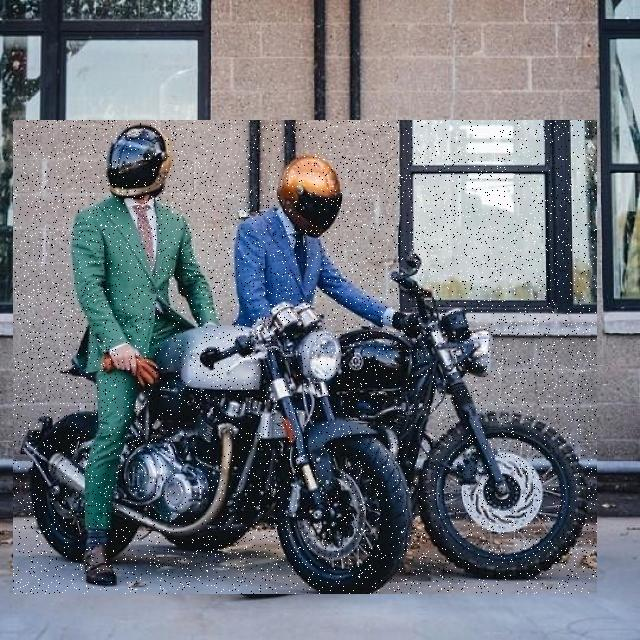With Helmet: (13, 120, 597, 594)
